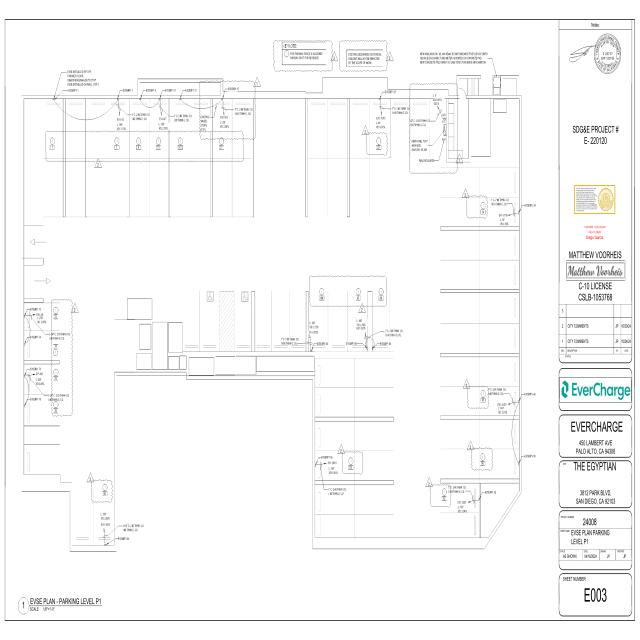evse: (138, 98, 142, 101), (314, 463, 316, 469), (366, 346, 368, 351), (310, 349, 313, 352), (52, 98, 56, 100), (378, 99, 382, 101), (518, 461, 520, 465), (478, 497, 480, 501), (117, 98, 120, 100), (158, 98, 161, 100), (104, 544, 107, 546), (518, 210, 519, 215), (518, 399, 519, 404), (372, 346, 373, 351), (24, 403, 25, 408), (178, 99, 182, 100), (222, 98, 224, 100), (24, 314, 25, 318), (24, 343, 25, 347), (24, 374, 25, 378)
gfi: (442, 118, 447, 120)
panel: (443, 123, 446, 137)
